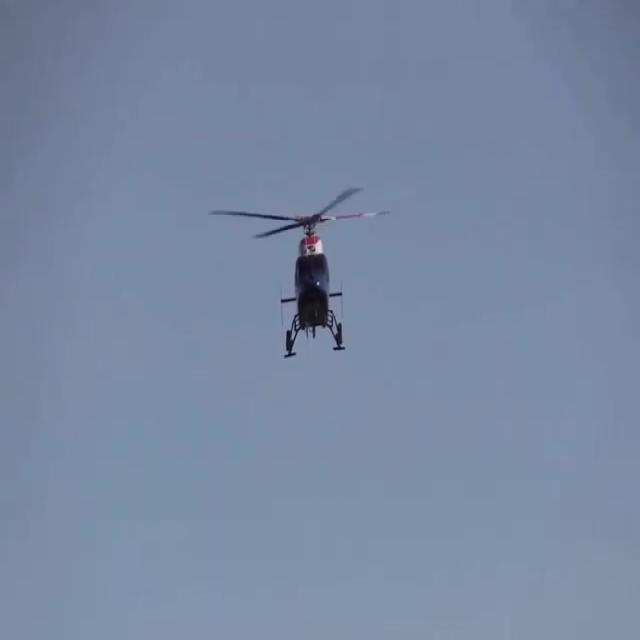Helicopter: (223, 174, 401, 368)
